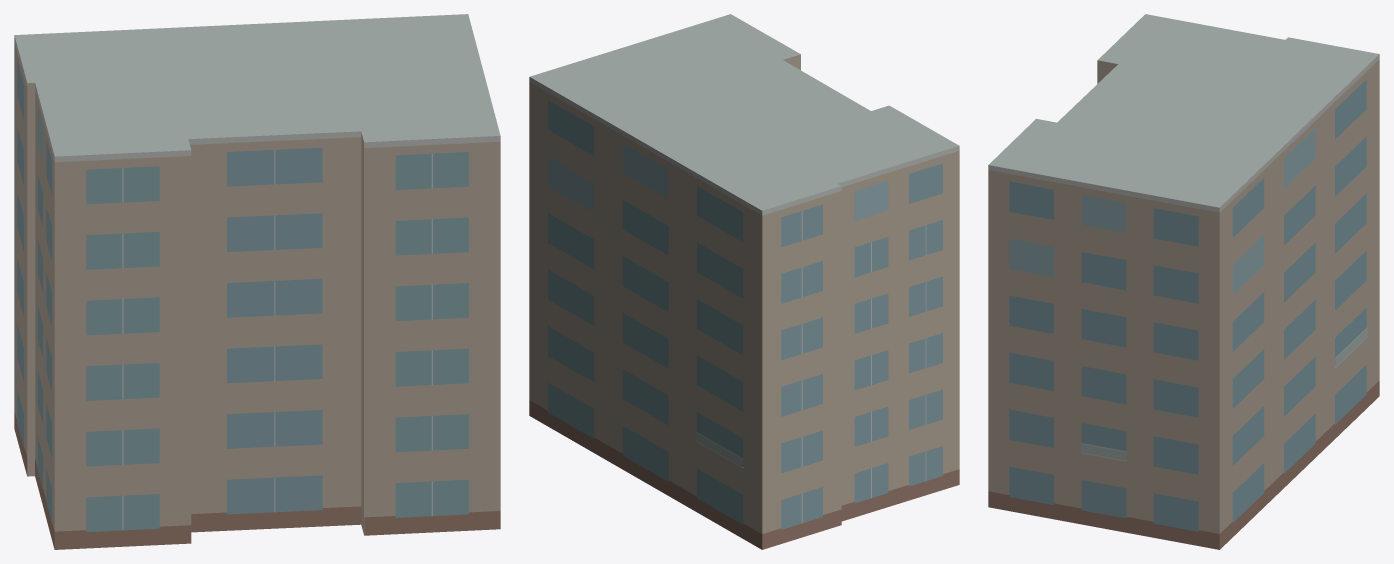
Rendered from survey-upis-32522706.glb.
The picture shows the model from 3 angles, left to right: view 1: azimuth 30°, elevation 25°; view 2: azimuth 150°, elevation 25°; view 3: azimuth 270°, elevation 25°; orthographic projection. The views are drawn at different scales.
Visible parts, largest first — view 1: survey-upis-32522706.tmp; view 2: survey-upis-32522706.tmp; view 3: survey-upis-32522706.tmp.
Boxes of the visible parts, <box> form: survey-upis-32522706.tmp: <box>14,14,500,549</box>; survey-upis-32522706.tmp: <box>529,14,959,549</box>; survey-upis-32522706.tmp: <box>988,14,1379,549</box>.
Size of the model in its own units: 20.16 by 16.6 by 17.21.
